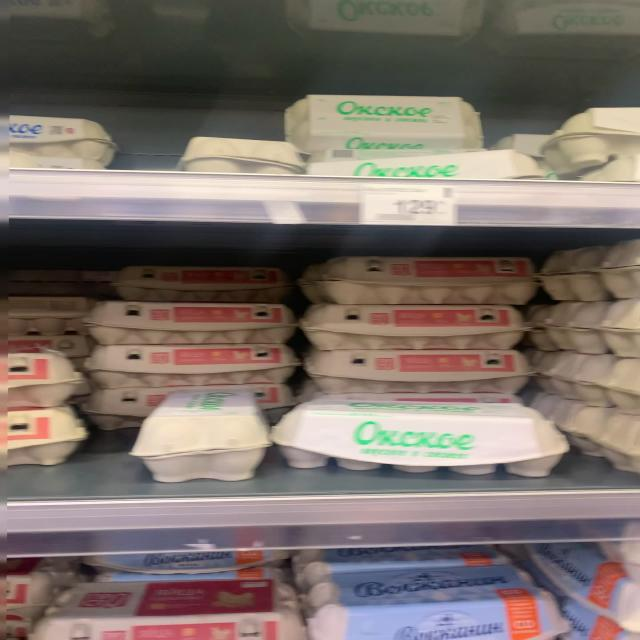egg box: (272, 398, 571, 479), (300, 564, 568, 636), (28, 579, 291, 638), (277, 93, 481, 157), (309, 254, 549, 304), (298, 304, 532, 351), (298, 349, 536, 394), (85, 343, 302, 390), (84, 300, 300, 347), (82, 534, 298, 574), (108, 267, 289, 301)
